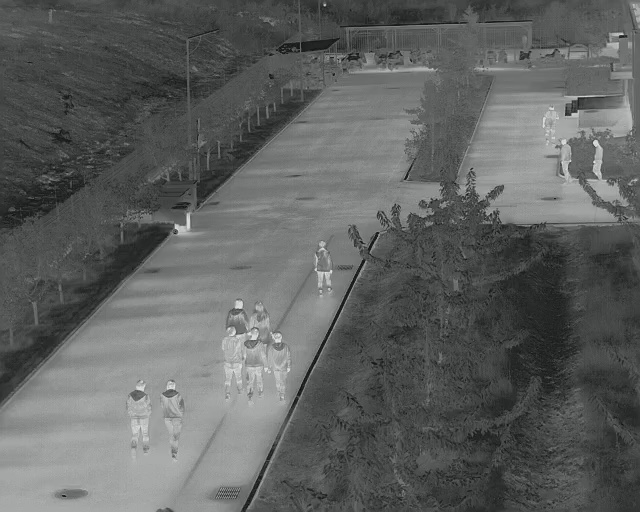person: (159, 379, 187, 462), (125, 378, 153, 456), (221, 327, 247, 402), (271, 332, 295, 402), (245, 328, 269, 397), (314, 238, 336, 296), (558, 137, 576, 184), (227, 299, 249, 330), (543, 103, 558, 145), (251, 300, 271, 328), (591, 139, 605, 179)
